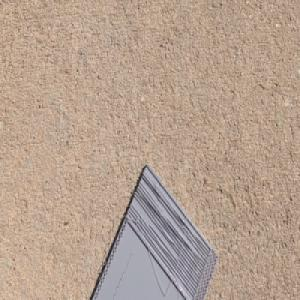PlasticPart: (88, 162, 219, 300)
